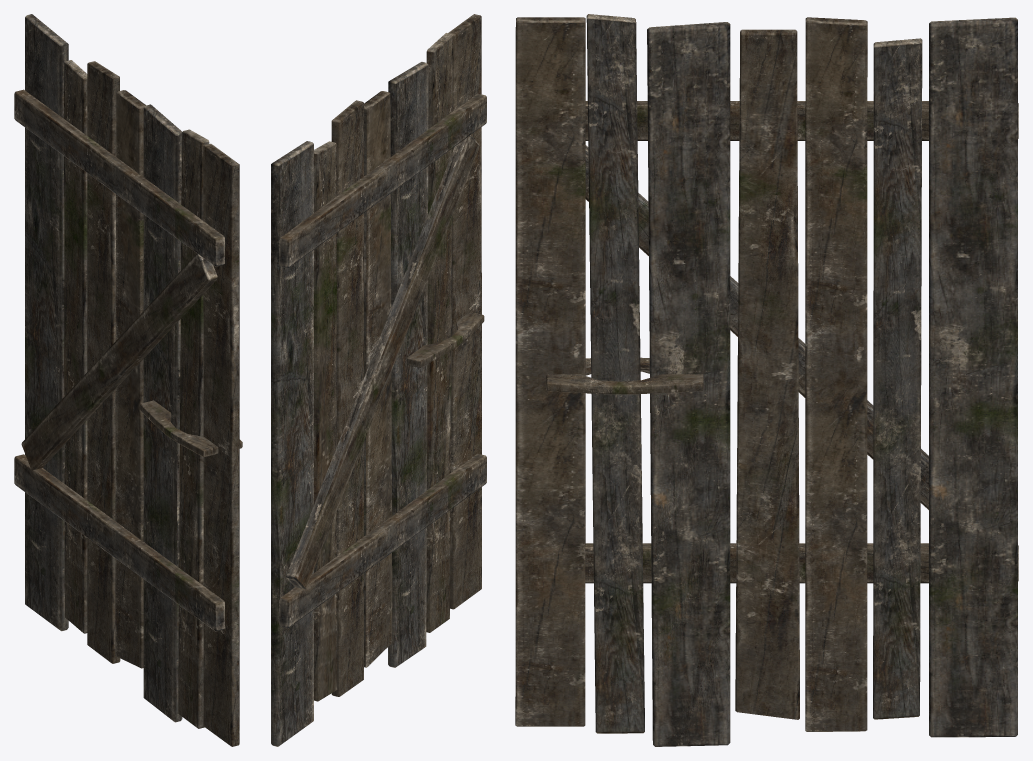
The model's file is Wood_Door_B.fbx.
3 renders of one model, left to right at view 1: azimuth 30°, elevation 25°; view 2: azimuth 150°, elevation 25°; view 3: azimuth 270°, elevation 25°, orthographic. The views are drawn at different scales.
Parts seen in each view (by area): view 1: Wood_Door_B_LOD0; view 2: Wood_Door_B_LOD0; view 3: Wood_Door_B_LOD0.
Part boxes in pixels (x1=…): Wood_Door_B_LOD0: x1=14, y1=14, x2=242, y2=746; Wood_Door_B_LOD0: x1=271, y1=14, x2=486, y2=746; Wood_Door_B_LOD0: x1=515, y1=14, x2=1018, y2=746.
Size of what is drawn, in the model's own units: 16.73 by 193 by 121.
